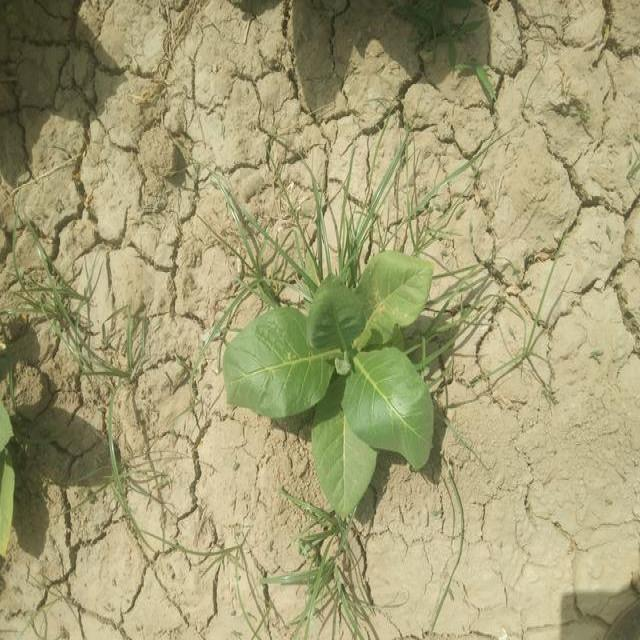crop: (226, 252, 440, 512)
